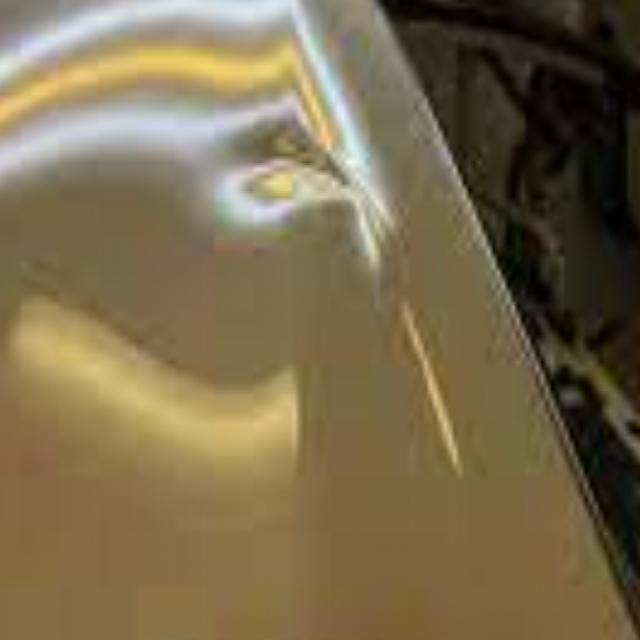dents: (220, 104, 432, 304)
